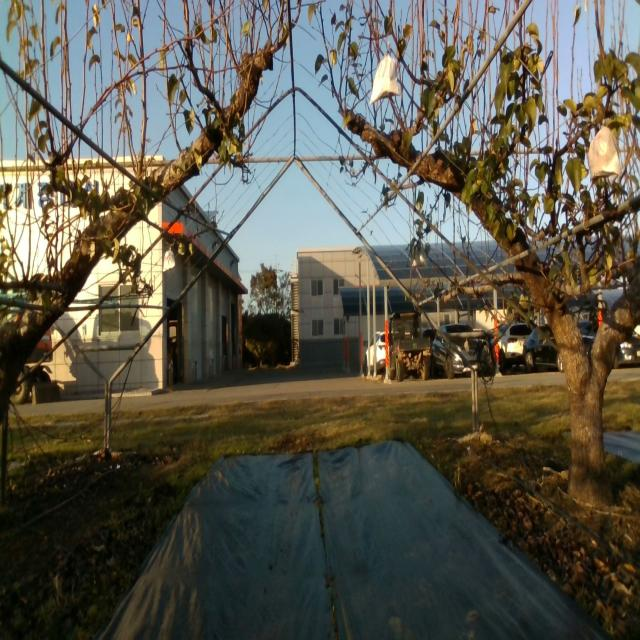pearbags: (369, 38, 401, 106), (589, 126, 620, 187), (412, 246, 428, 269), (162, 247, 175, 273)
